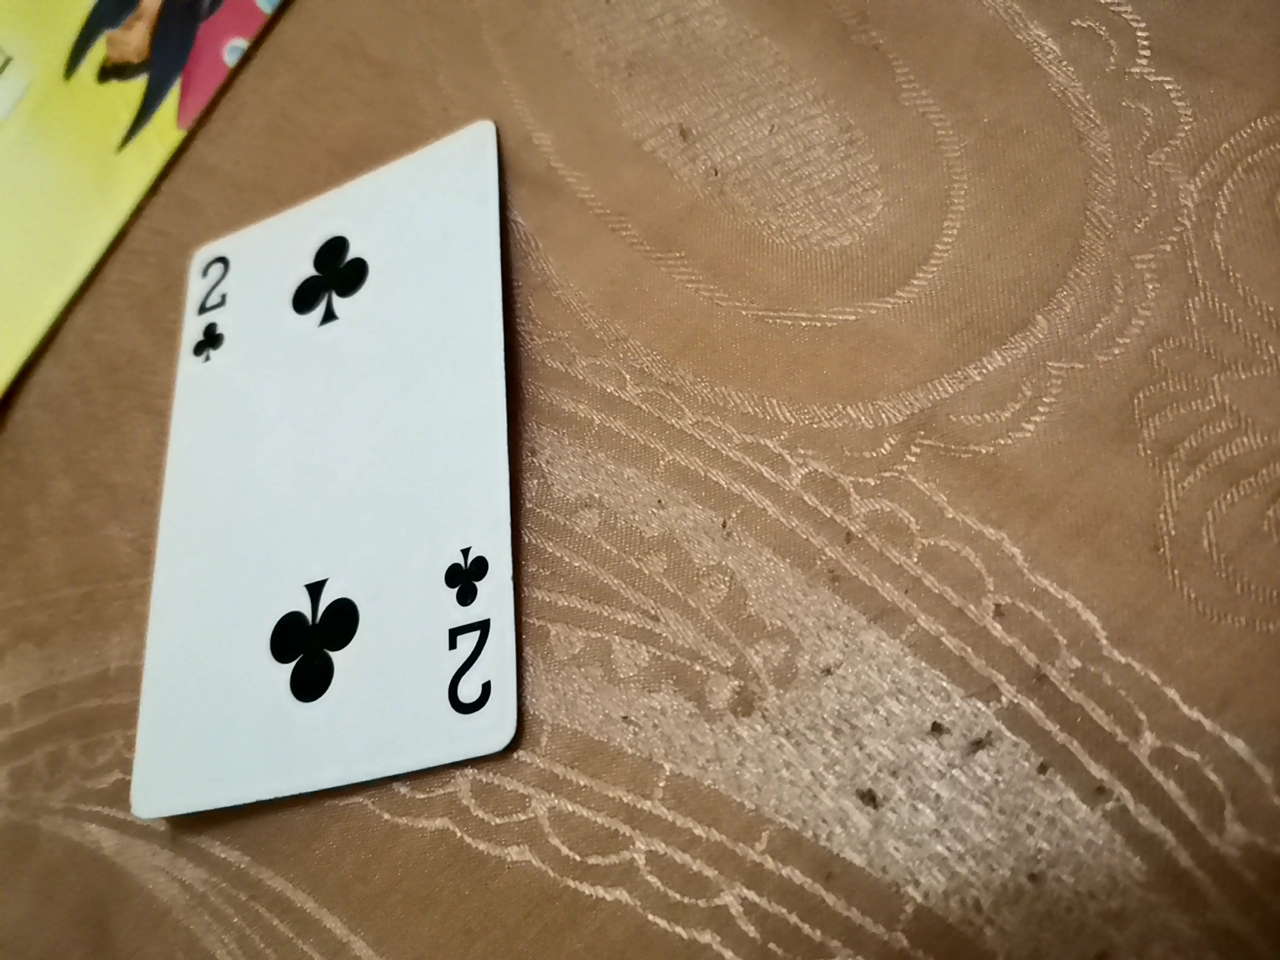mh 2: (146, 154, 534, 829)
